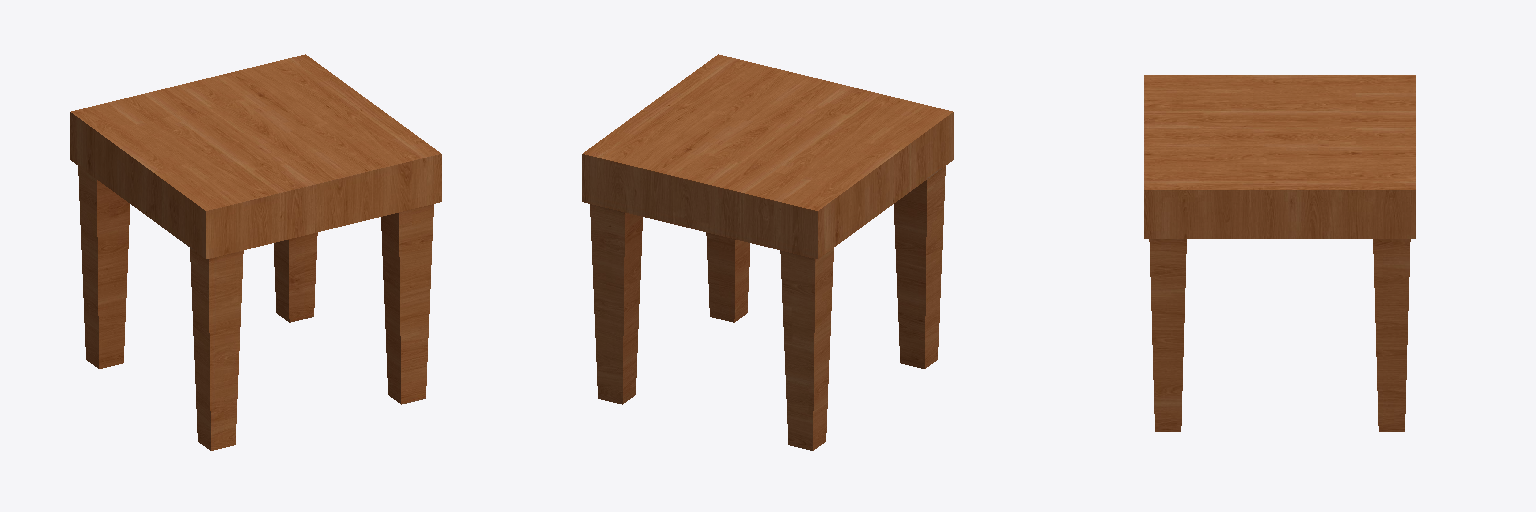
3 renders of one model, left to right at view 1: azimuth 30°, elevation 25°; view 2: azimuth 150°, elevation 25°; view 3: azimuth 270°, elevation 25°, orthographic.
Parts seen in each view (by area): view 1: Table_Cube; view 2: Table_Cube; view 3: Table_Cube.
Boxes of the visible parts, x1,y1,x2,y2 form: Table_Cube: [70, 54, 441, 450]; Table_Cube: [582, 54, 953, 450]; Table_Cube: [1144, 75, 1415, 431].
Size of the model in its own units: 1 by 1 by 1.
1 materials, 1 textured.